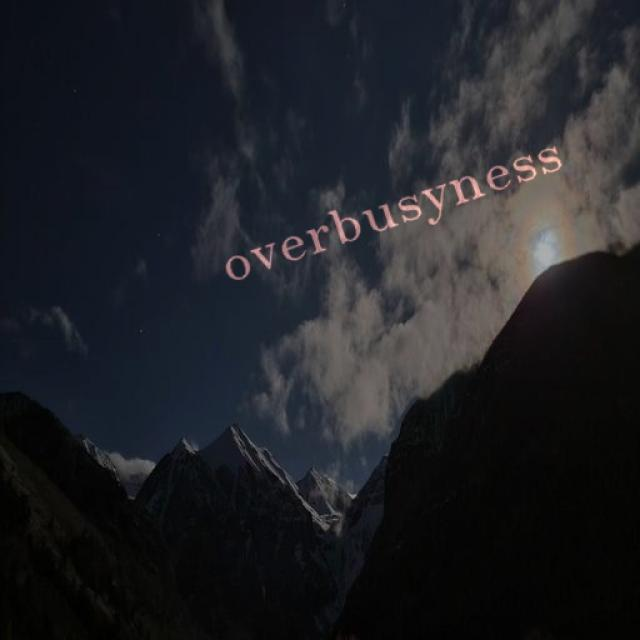watermark: (215, 130, 565, 292)
